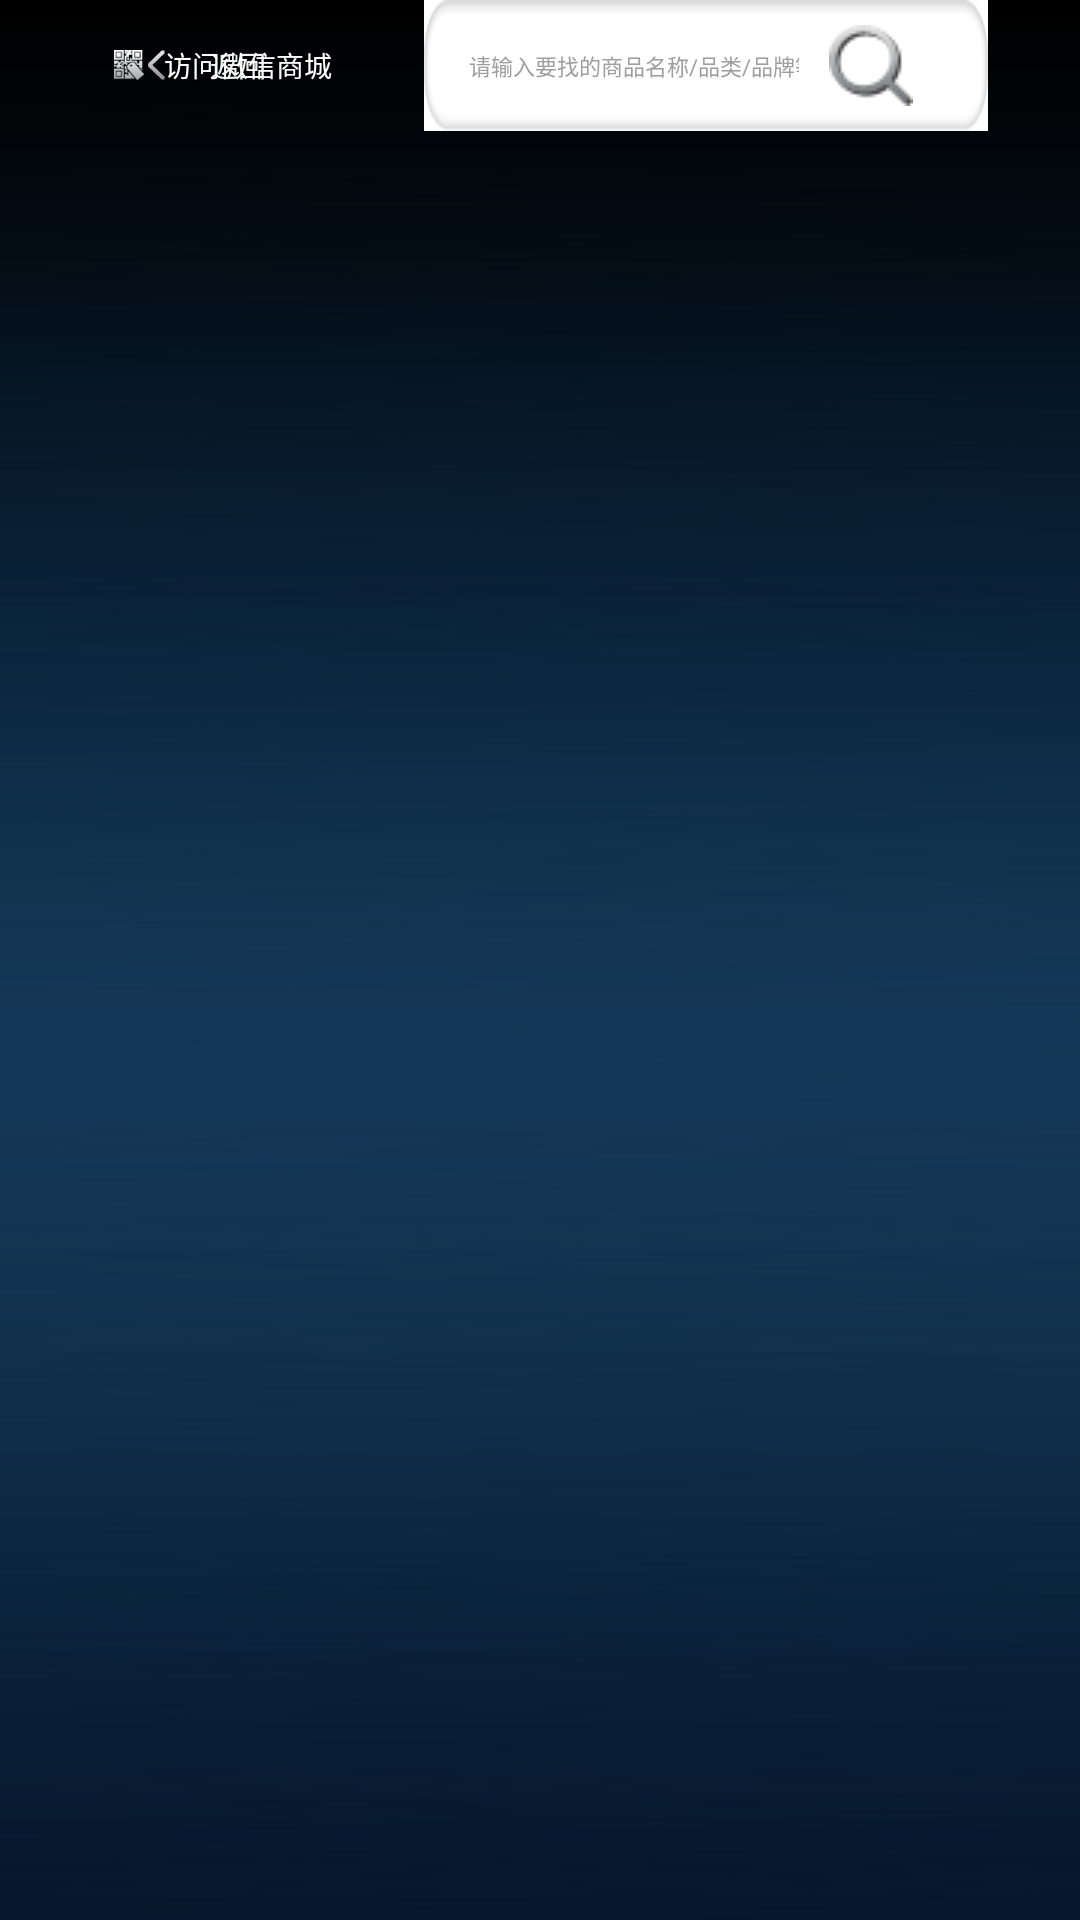

Icons on this 1080x1920 Android screen, each with its box as box(x1, y1, x2, y2):
search: box(829, 25, 913, 106)
shop code: box(114, 50, 144, 80)
